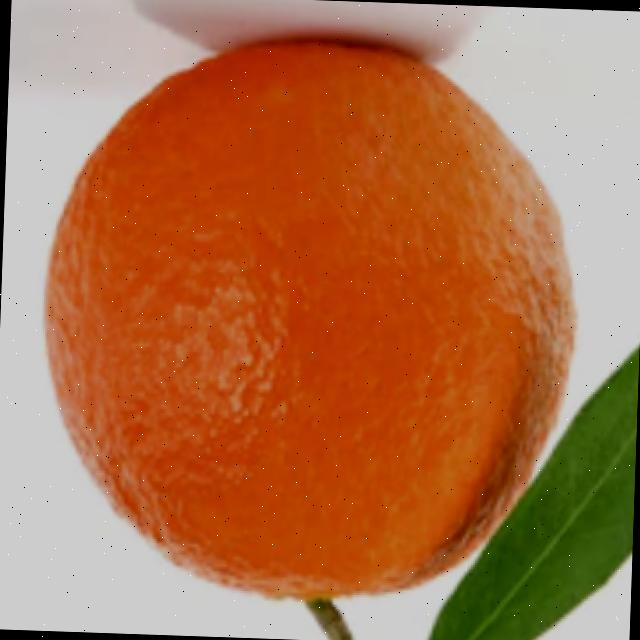orange: (32, 27, 592, 614)
